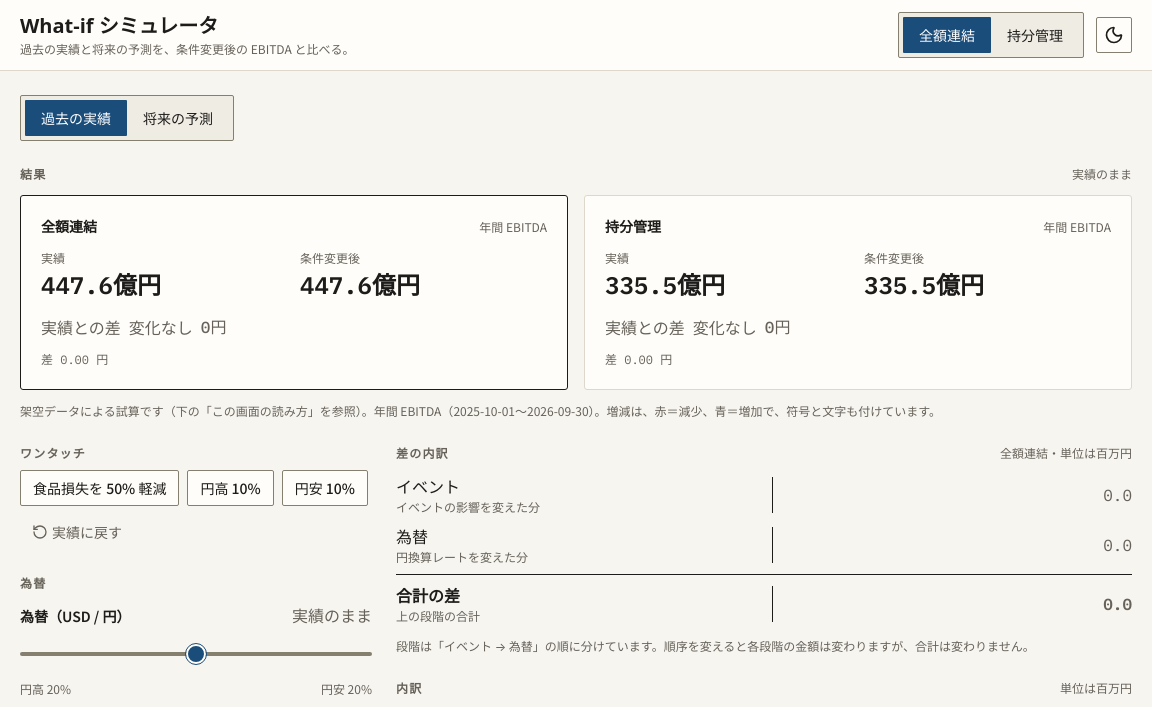
Scenario: Simulator の操作 › 「実績に戻す」は、変更があるときだけ押せて、押すと全部戻る
Expected: the button "実績に戻す" is disabled, [20,514,134,550]
What coordinates should you click on to do the following:
click the button "食品損失を 50% 軽減"
I would click on:
 (100, 488)
Its box is [20,470,179,506].
Wait 250 ms
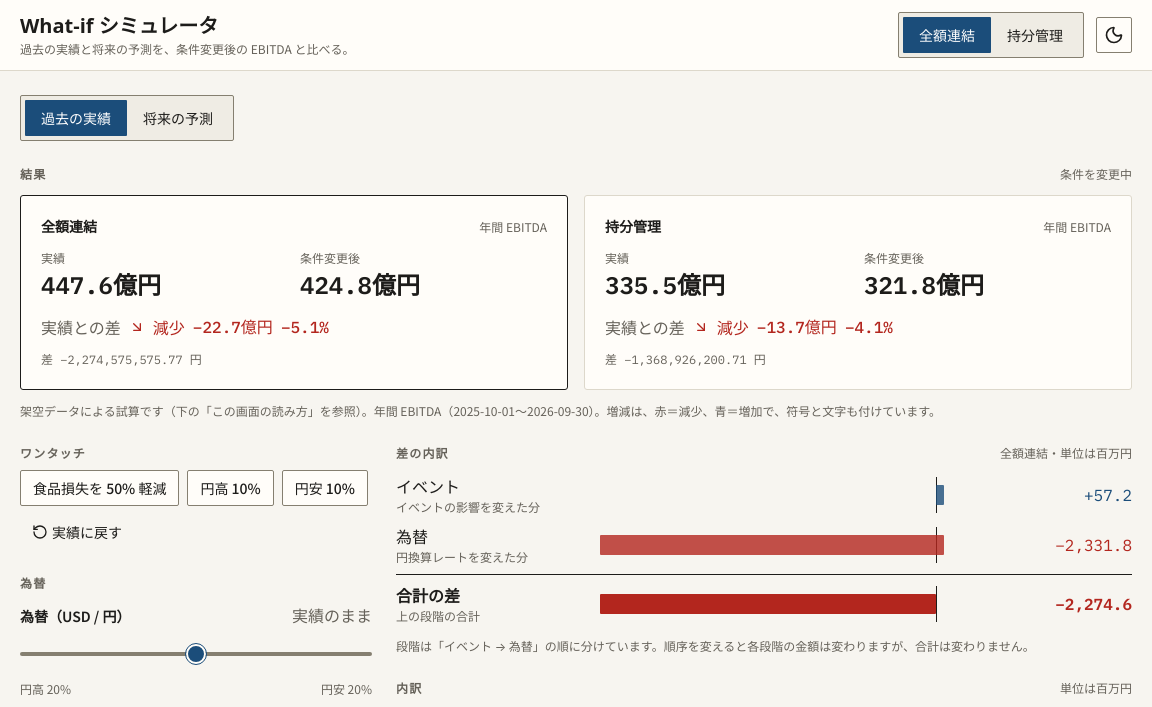
Now the button "実績に戻す" is enabled
What coordinates should you click on to do the following:
click the button "実績に戻す"
I would click on:
 (77, 532)
Its box is [20,514,134,550].
Wait 250 ms
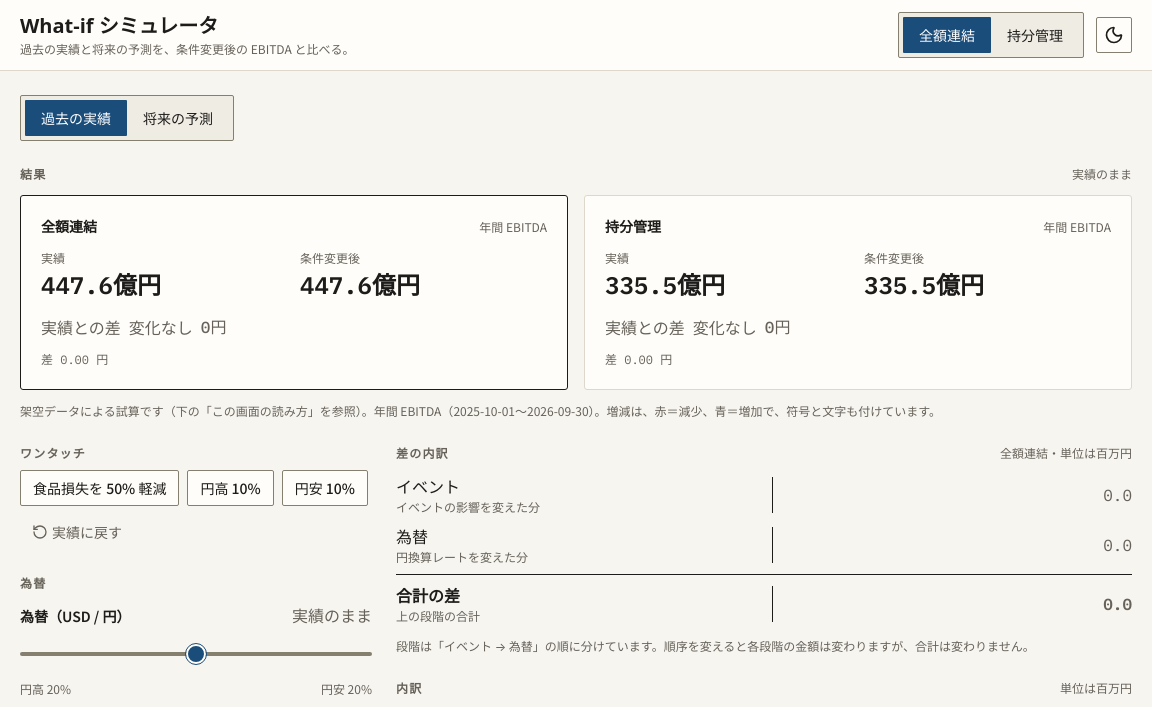
Now the button "実績に戻す" is disabled, box [20,514,134,550]
